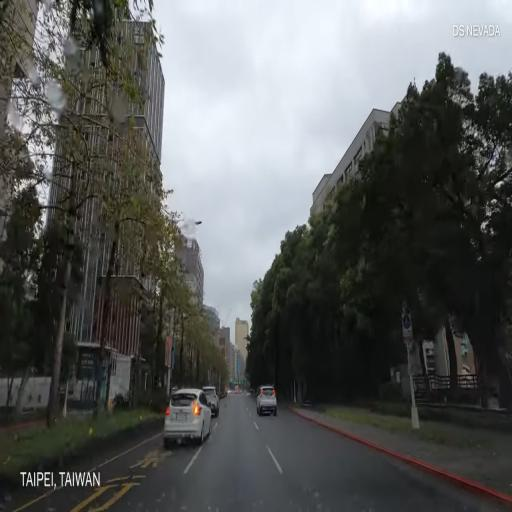Car: (160, 384, 212, 450), (196, 381, 222, 420), (256, 378, 281, 416)
